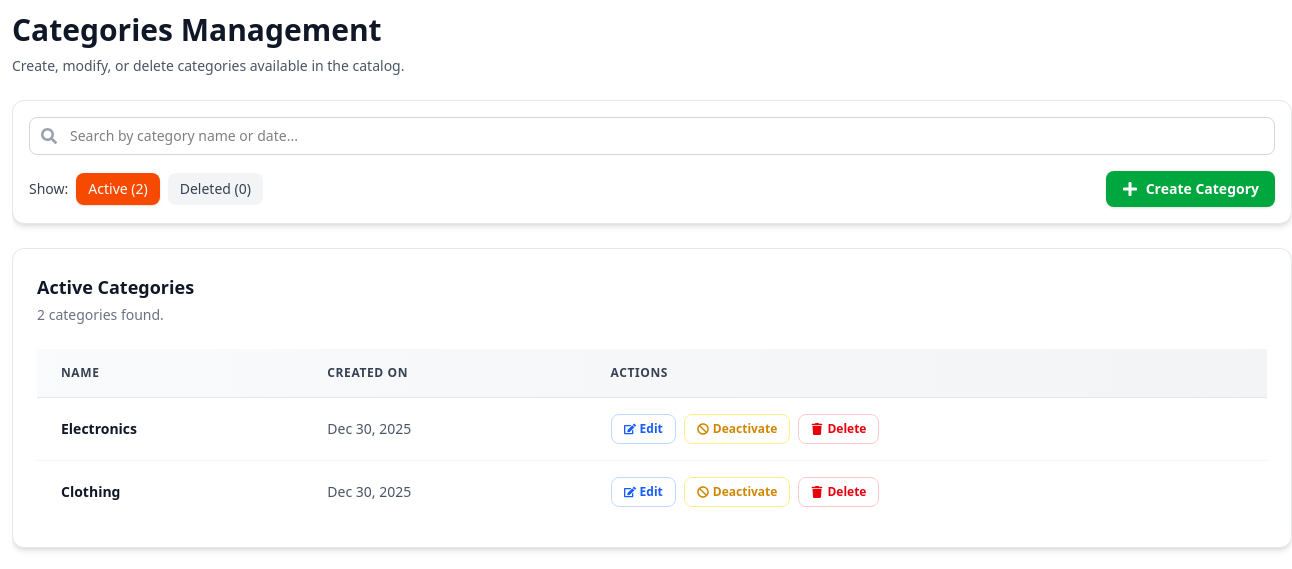
Scenario: AdminCategories › filters categories by search query
In the field with placeholder "Search by category name or date...": point(652, 136) [29,117,1275,155], type "Electronics"
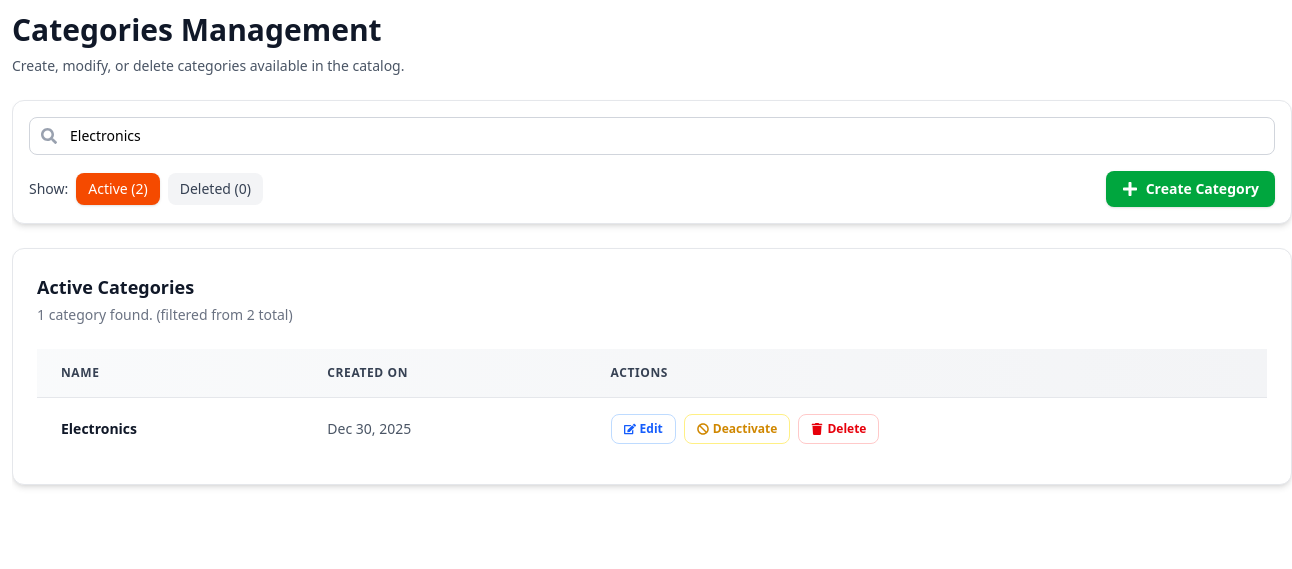
Check: the text "Electronics" is shown, box [61,419,137,438]
Check: the text "Clothing" is gone
